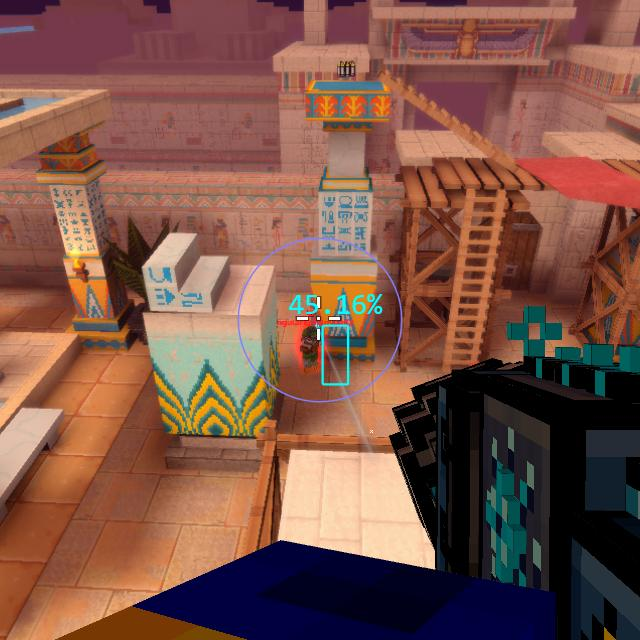Enemy: (300, 328, 323, 373)
